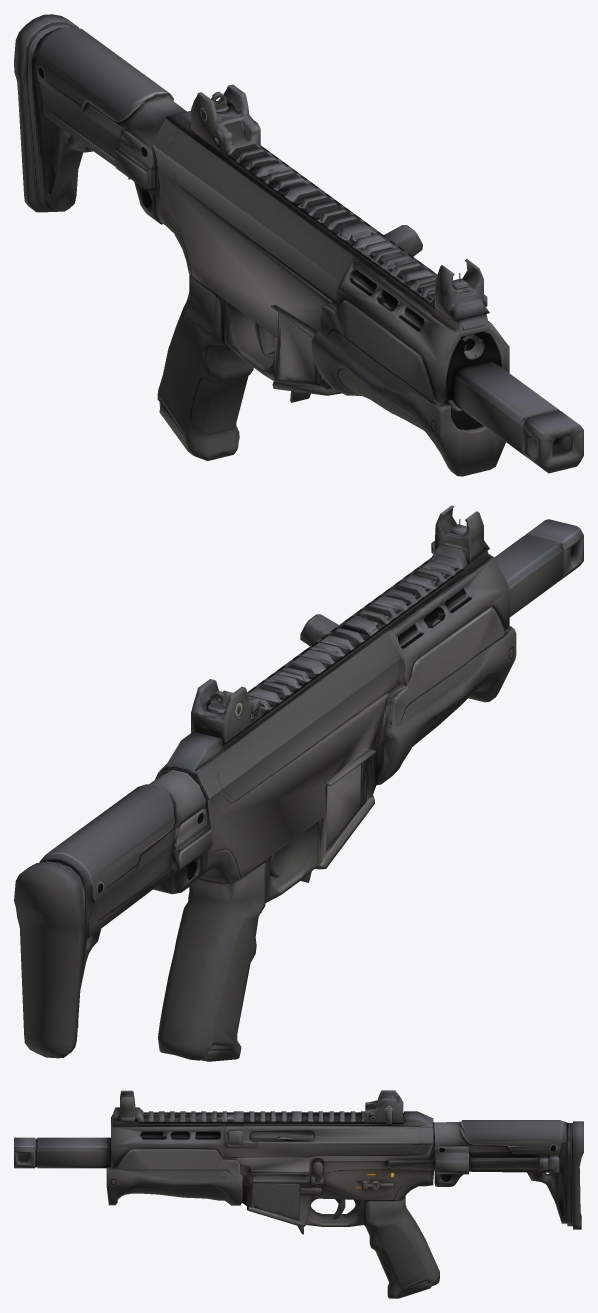
Rendered from rifle.glb.
3 views of the same model, one above another, from view 1: azimuth 30°, elevation 25°; view 2: azimuth 150°, elevation 25°; view 3: azimuth 270°, elevation 25° (orthographic). The views are drawn at different scales.
Parts seen in each view (by area): view 1: rifle; view 2: rifle; view 3: rifle.
Part boxes in pixels (x1,y1,x2,y2): rifle: (14,14,583,476); rifle: (14,505,583,1061); rifle: (14,1090,583,1298).
Bounding box in the file's own units: 0.1113 × 0.3887 × 0.998.
1 material, 1 textured.
